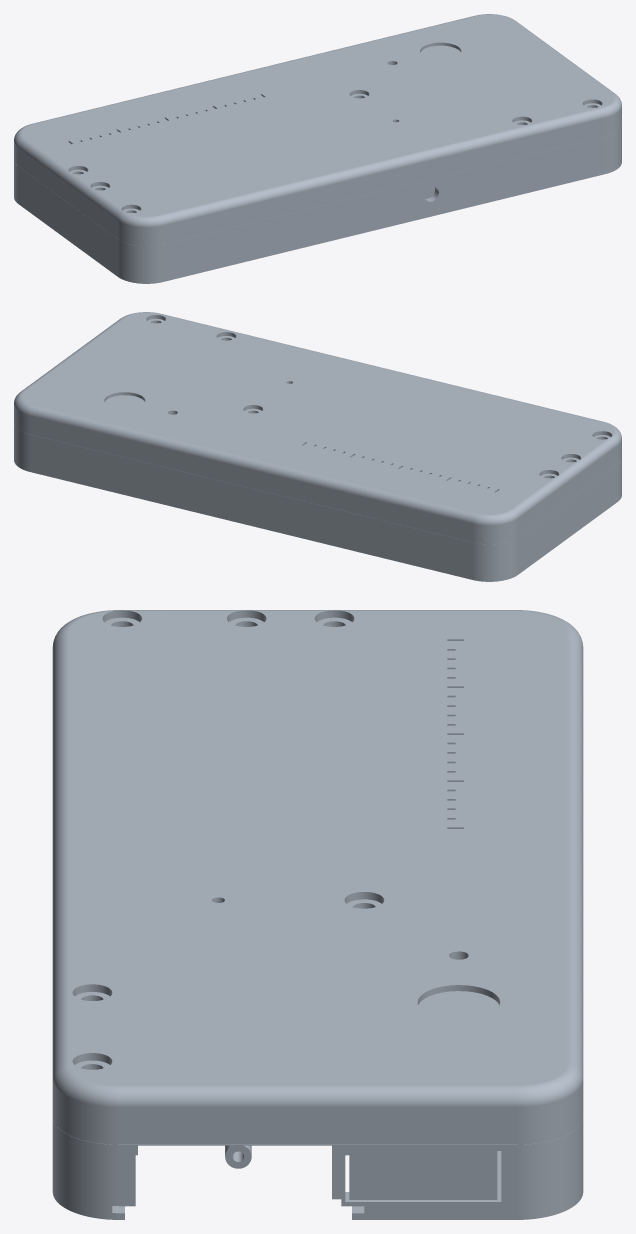
Rendered from OP-200_assembly.glb.
The picture shows the model from 3 angles, top to bottom: view 1: azimuth 30°, elevation 25°; view 2: azimuth 150°, elevation 25°; view 3: azimuth 270°, elevation 25°; orthographic projection. The views are drawn at different scales.
Parts seen in each view (by area): view 1: top, bottom; view 2: top, bottom; view 3: top, bottom, usb_conn.
Boxes of the visible parts, x1=… form: top: x1=14, y1=14, x2=621, y2=246; bottom: x1=14, y1=126, x2=621, y2=283; top: x1=14, y1=312, x2=621, y2=544; bottom: x1=14, y1=424, x2=621, y2=581; top: x1=52, y1=610, x2=583, y2=1144; bottom: x1=52, y1=1118, x2=583, y2=1219; usb_conn: x1=349, y1=1151, x2=497, y2=1199.
Bounding box in the file's own units: 0.0696 × 0.0085 × 0.032.
